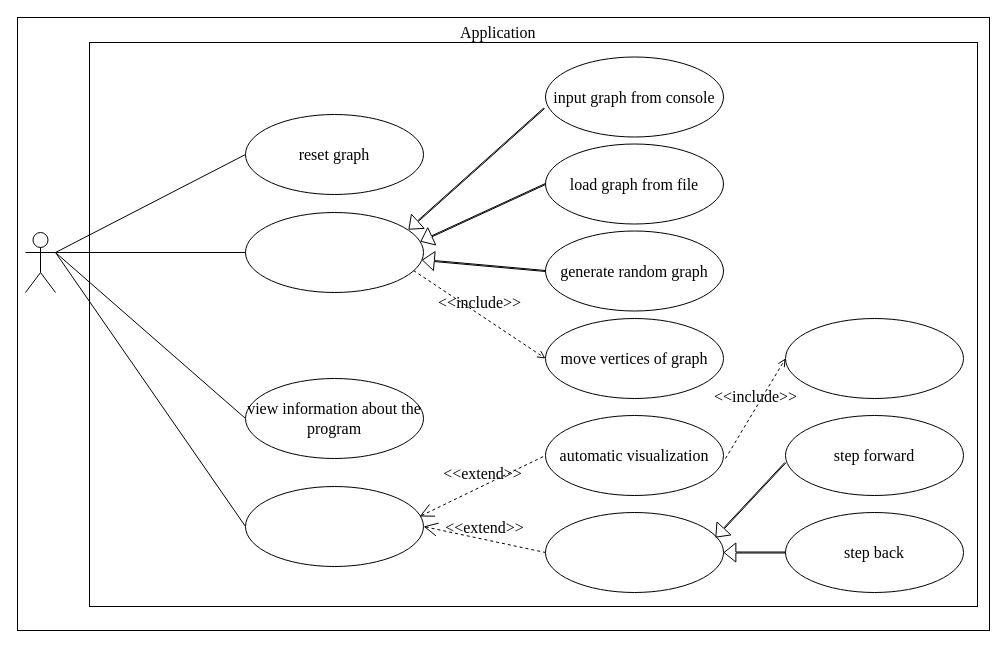
This 1007x648 diagram has some shape labels left out. Here are the shapes that lost their labels. From the top down, the box of each, then its label:
(24, 232, 56, 292): User
(244, 212, 424, 292): make graph
(784, 318, 964, 398): change speed of visualization
(244, 486, 424, 566): find the maximum flow in graph
(544, 512, 724, 592): step by step visualization
